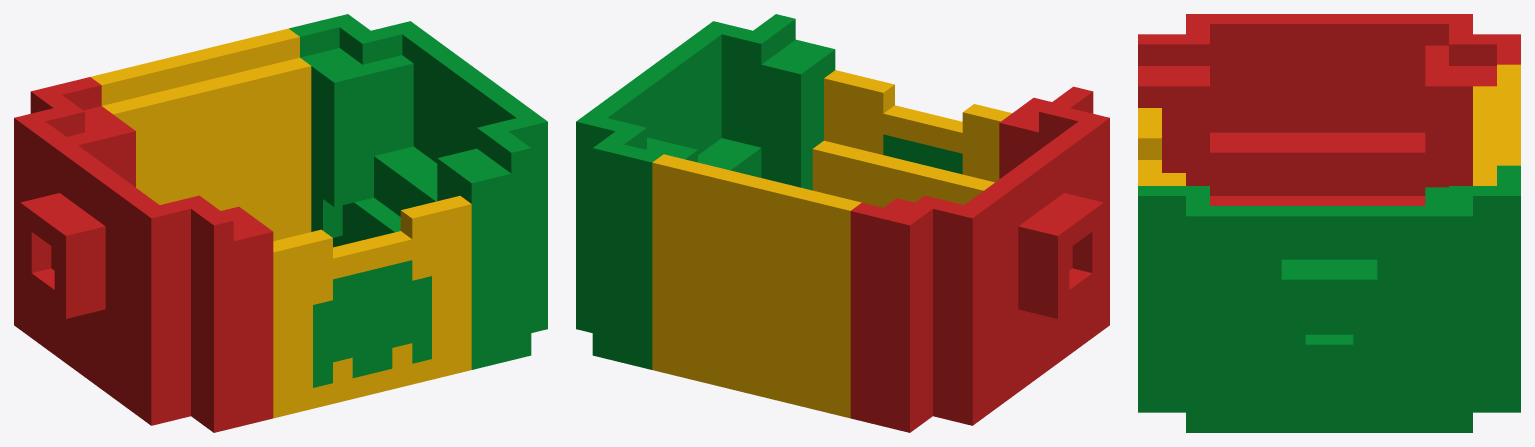
3 renders of one model, left to right at view 1: azimuth 30°, elevation 25°; view 2: azimuth 150°, elevation 25°; view 3: azimuth 270°, elevation 25°, orthographic. The views are drawn at different scales.
Parts seen in each view (by area): view 1: 109; view 2: 109; view 3: 109.
Part boxes in pixels (<box>): 109: <box>14,14,547,432</box>; 109: <box>576,14,1109,432</box>; 109: <box>1138,14,1520,432</box>.
Size of the model in its own units: 2.4 by 1 by 1.6.
1 material, 1 textured.
